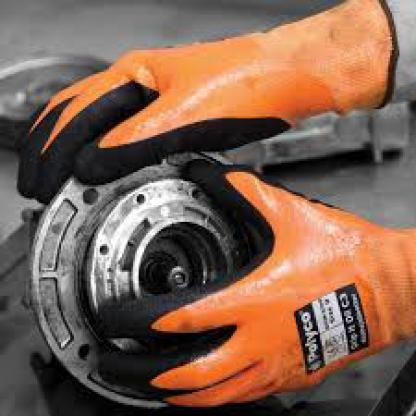with_gloves: (94, 157, 416, 414), (17, 2, 401, 207)
